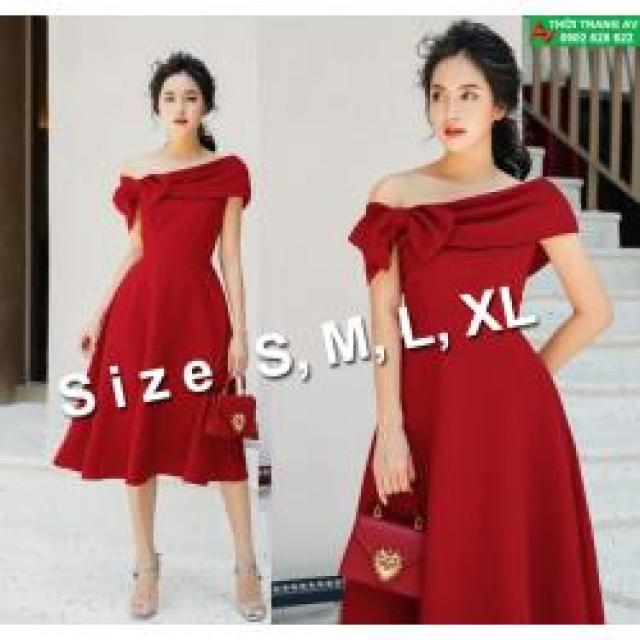clothes: (339, 166, 612, 625), (54, 150, 257, 482)
